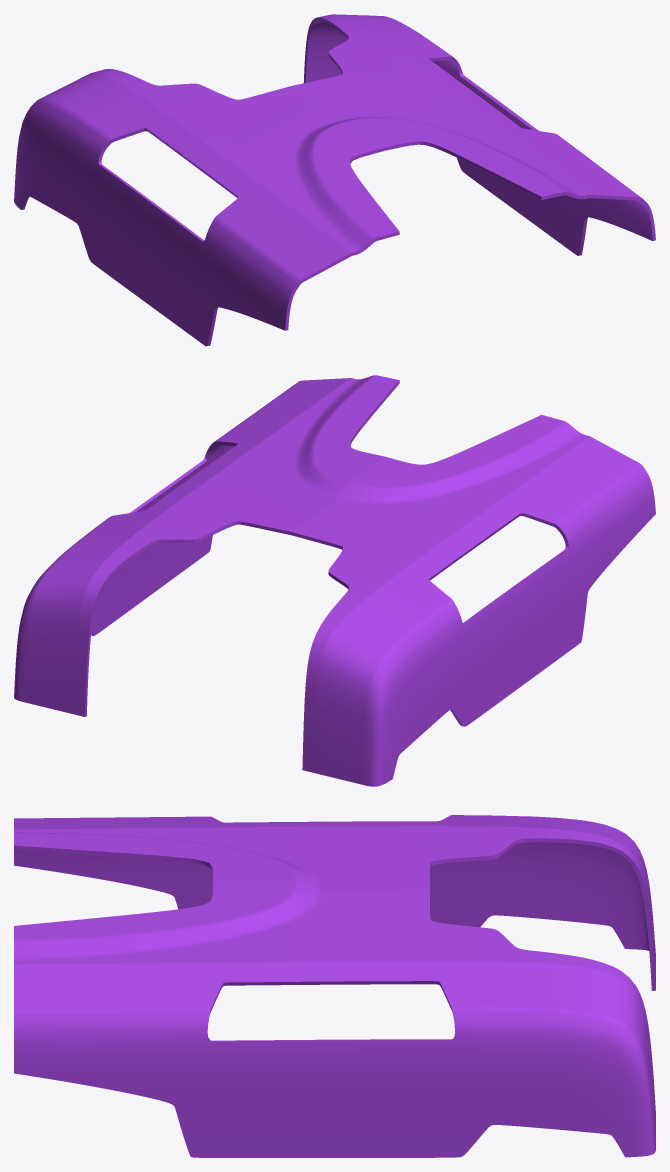
Rendered from shell.dae.
The picture shows the model from 3 angles, top to bottom: view 1: azimuth 30°, elevation 25°; view 2: azimuth 150°, elevation 25°; view 3: azimuth 270°, elevation 25°; orthographic projection. The views are drawn at different scales.
Parts seen in each view (by area): view 1: Brep; view 2: Brep; view 3: Brep.
Part boxes in pixels (x1,y1,x2,y2): Brep: [14, 14, 655, 346]; Brep: [14, 375, 655, 786]; Brep: [14, 815, 655, 1157].
Size of the model in its own units: 237 by 303 by 89.43.
